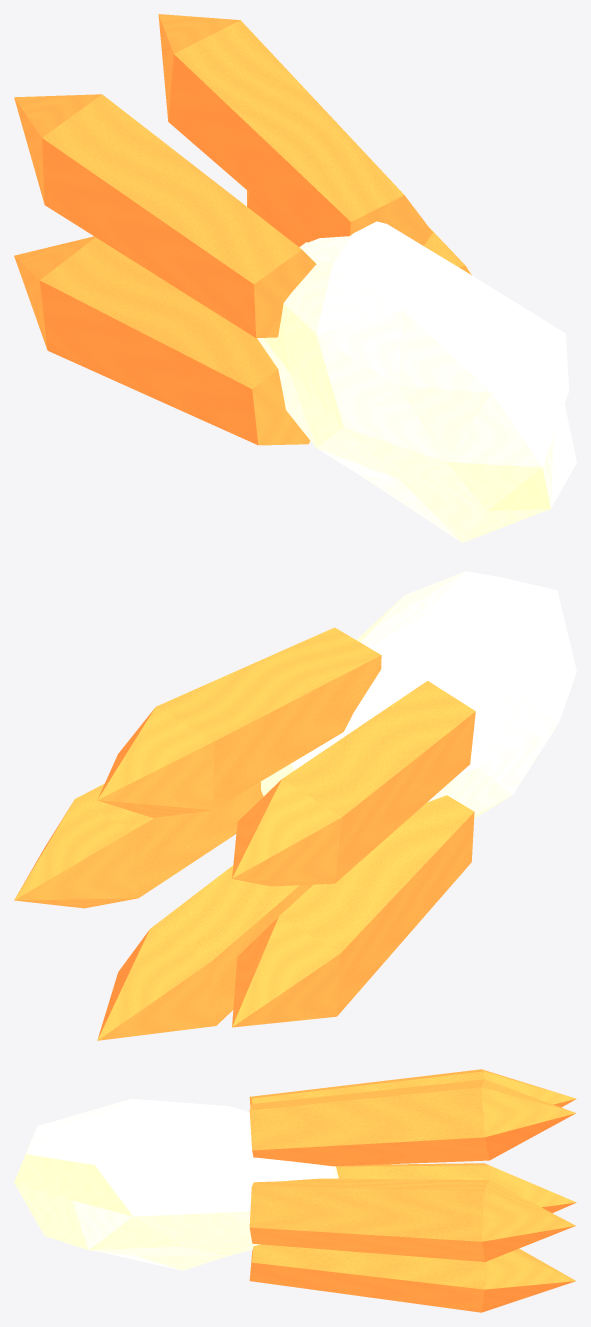
Rendered from FXM_FireBolt.fbx.
3 renders of one model, top to bottom at view 1: azimuth 30°, elevation 25°; view 2: azimuth 150°, elevation 25°; view 3: azimuth 270°, elevation 25°, orthographic. The views are drawn at different scales.
Parts seen in each view (by area): view 1: SM_FXM_FireBolt; view 2: SM_FXM_FireBolt; view 3: SM_FXM_FireBolt.
Part boxes in pixels (x1=…): SM_FXM_FireBolt: x1=14, y1=14, x2=576, y2=542; SM_FXM_FireBolt: x1=14, y1=571, x2=576, y2=1040; SM_FXM_FireBolt: x1=14, y1=1069, x2=576, y2=1312.
Bounding box in the file's own units: 44.23 × 104 × 46.14.
Materials: 1 (1 with a texture image).
